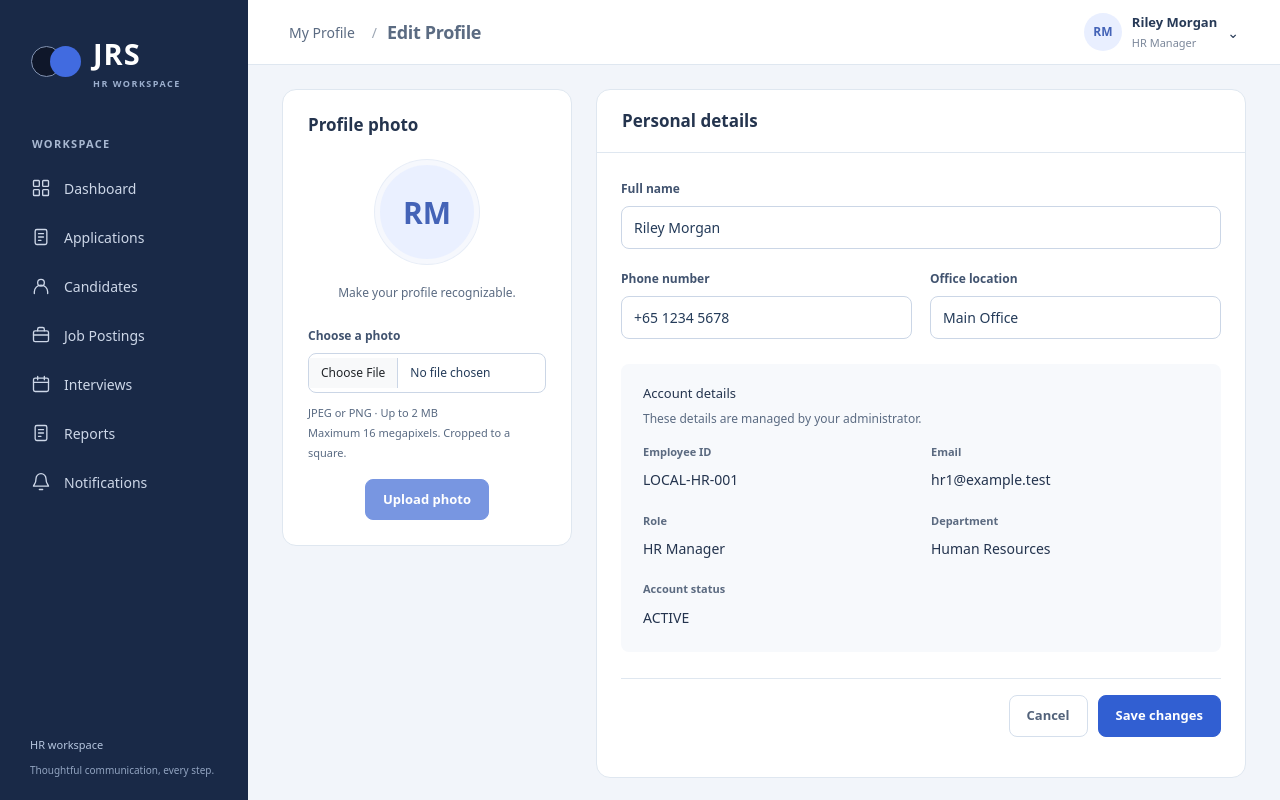
Test: logs and HR profile › submits only the allowed fields and updates the avatar account name
Replace the text in the field labelled "Full name" with "Riley Updated". click: (921, 228)
box: [621,206,1221,249]
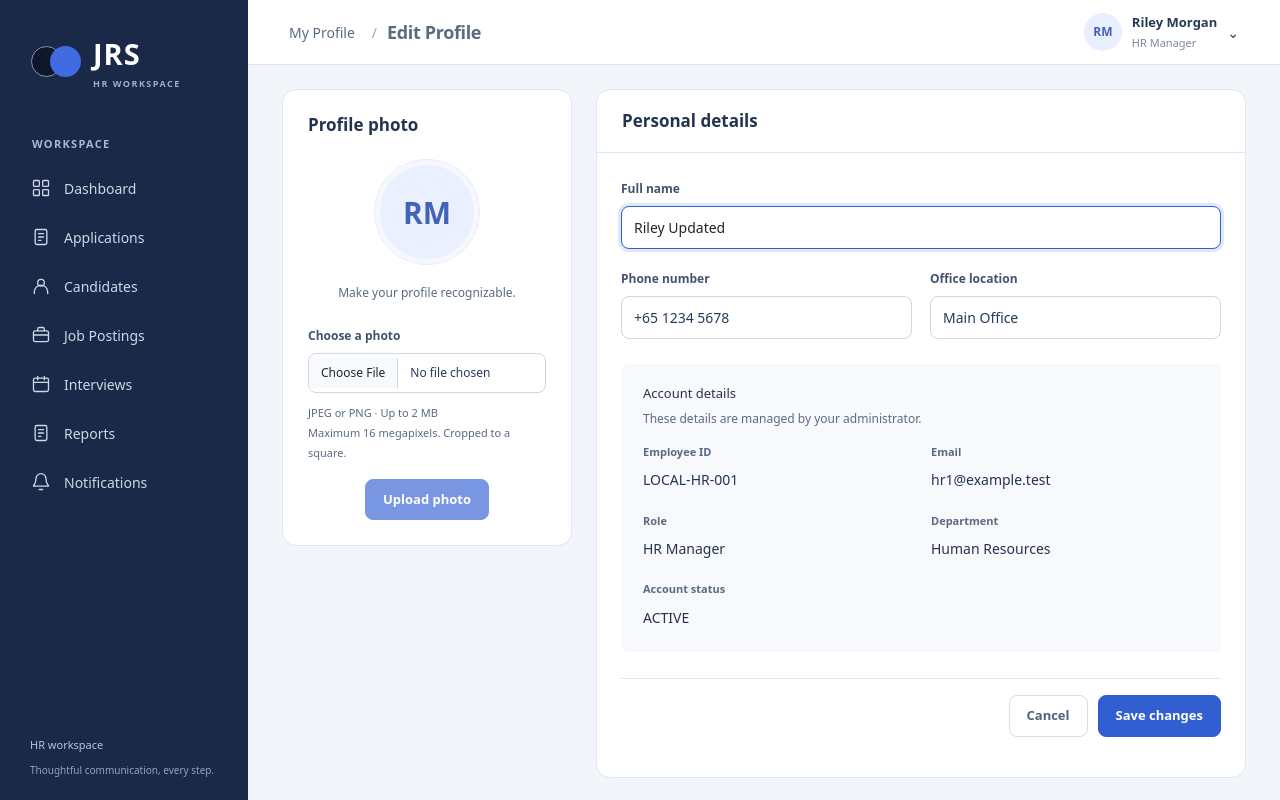
Click the button "Save changes". click: (1159, 716)
box: [1098,695,1221,736]
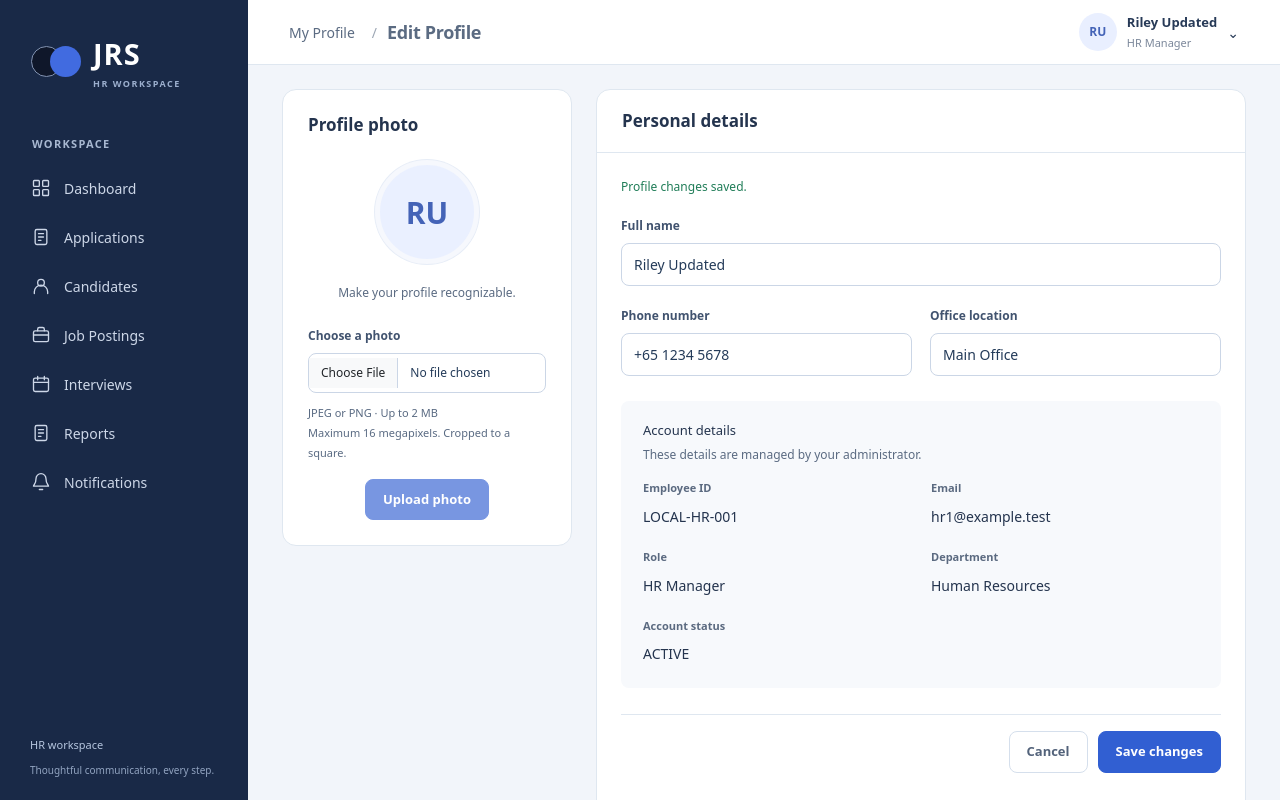
Now the text "Profile changes saved." is shown, box [621,178,747,195]
Now the button "RU Riley Updated HR Manager ⌄" is shown, box [1072,8,1246,56]
